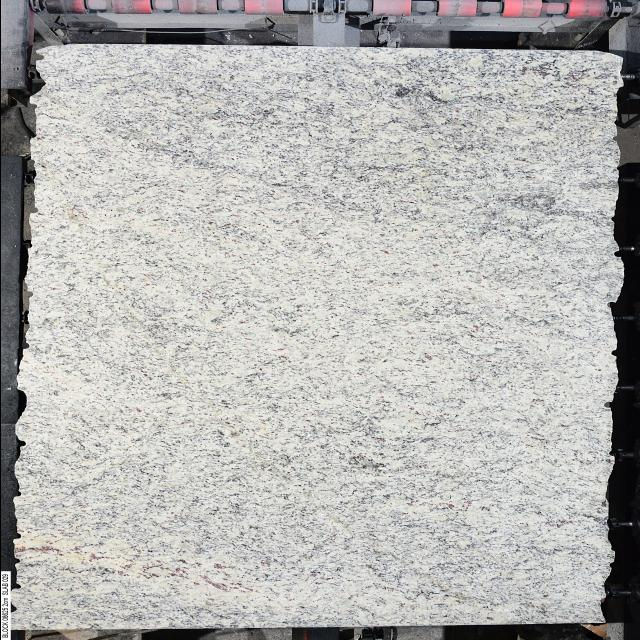chapa: (15, 45, 622, 629)
veio: (610, 250, 624, 260), (13, 440, 30, 448), (600, 400, 616, 408), (10, 532, 22, 542), (22, 290, 34, 300), (13, 556, 23, 566), (26, 207, 38, 215), (34, 53, 46, 61), (8, 583, 20, 590), (607, 349, 617, 357), (603, 302, 615, 308)
